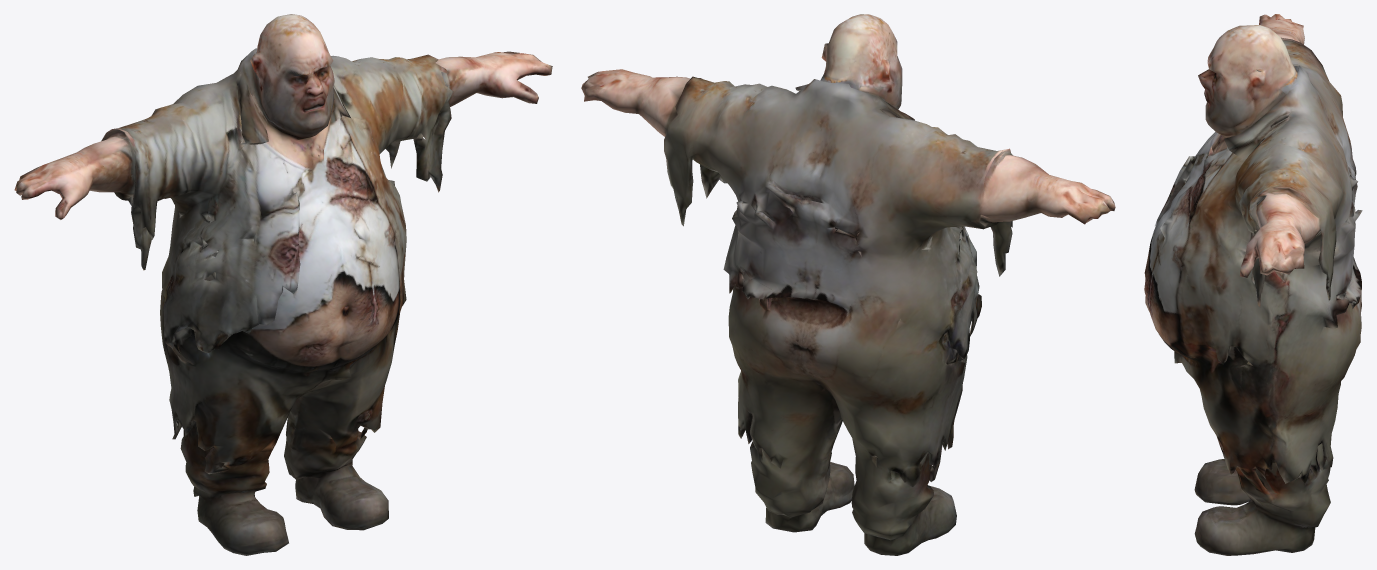
Rendered from charger.glb.
3 views of the same model, side by side, from view 1: azimuth 30°, elevation 25°; view 2: azimuth 150°, elevation 25°; view 3: azimuth 270°, elevation 25° (orthographic). The views are drawn at different scales.
Size of the model in its own units: 2.01 by 1.83 by 0.7366.
1 material, 1 textured.
